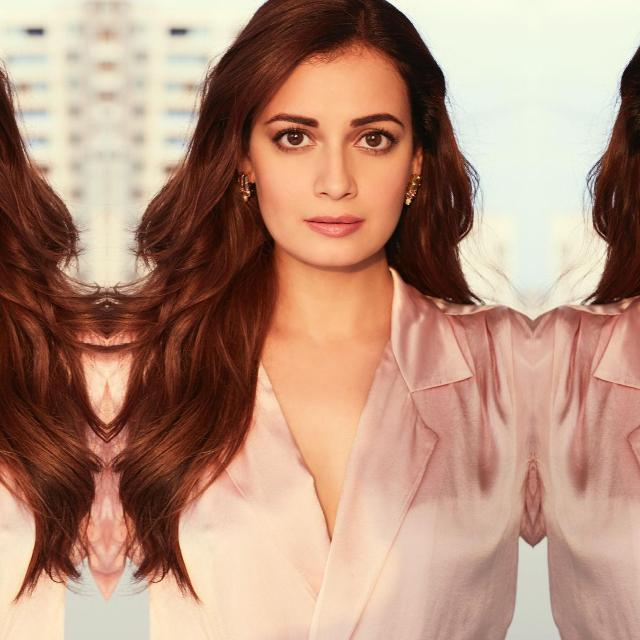person: (105, 0, 532, 636), (532, 0, 640, 636), (0, 0, 106, 636)
